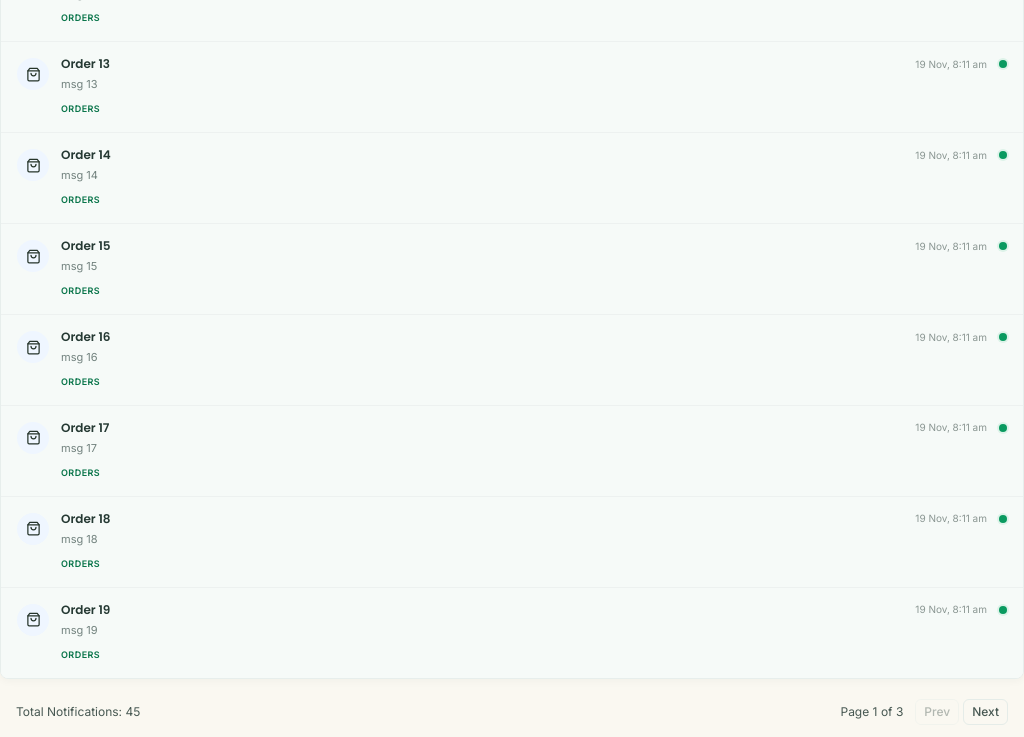
Scenario: Customer Notification Centre › supports pagination with total, current page and prev/next controls
(page scrolled)
Expected: the text "Total Notifications: 45" is shown, [16,704,140,720]
Expected: the text "Page 1 of 3" is shown, [840,704,903,720]
Step 1. Click the button "Next" → (986, 712), box [963,698,1008,724]
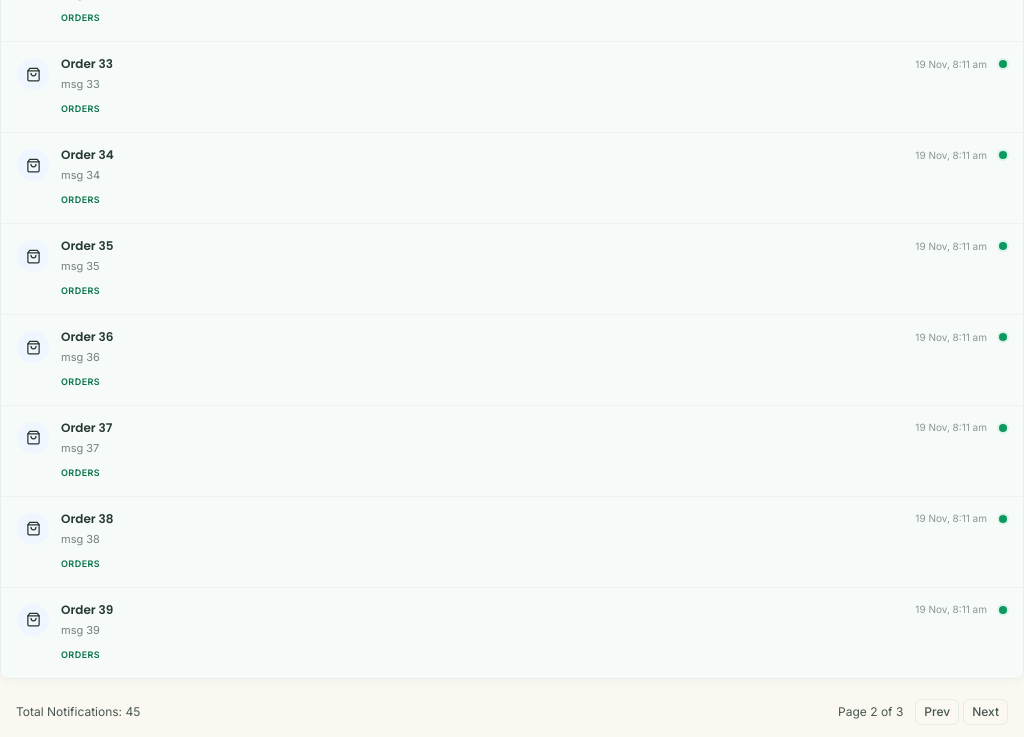
Expected: the text "Page 2 of 3" is shown, [838,704,903,720]
Step 2. Click the button "Prev" → (937, 712), box [915,698,959,724]
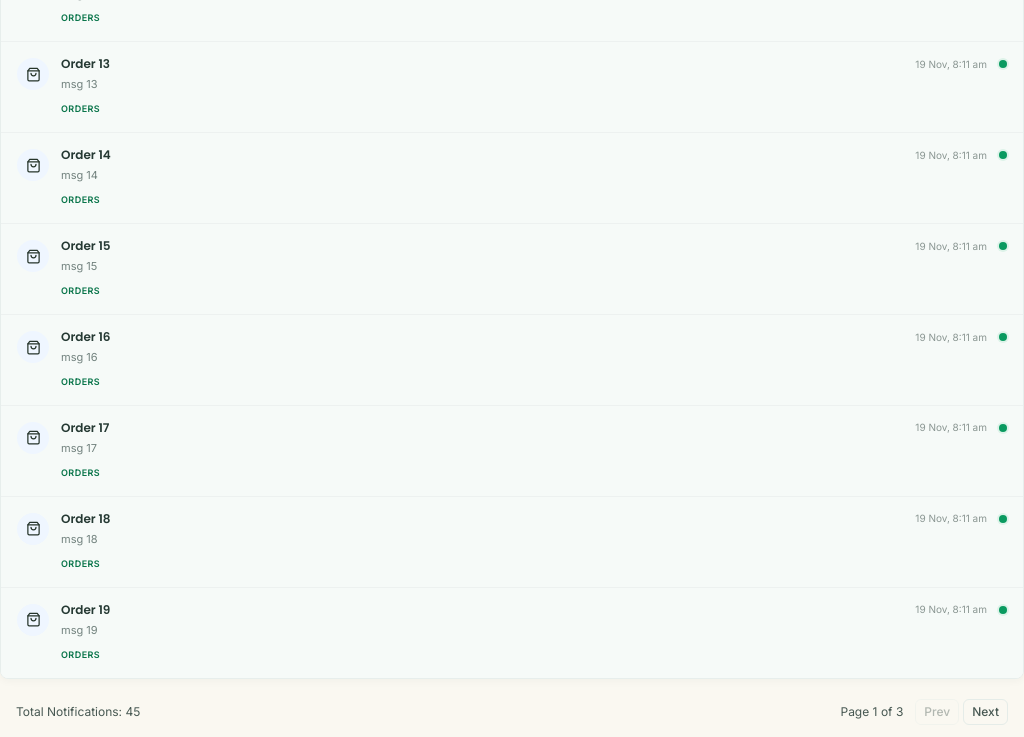
Expected: the text "Page 1 of 3" is shown, [840,704,903,720]
